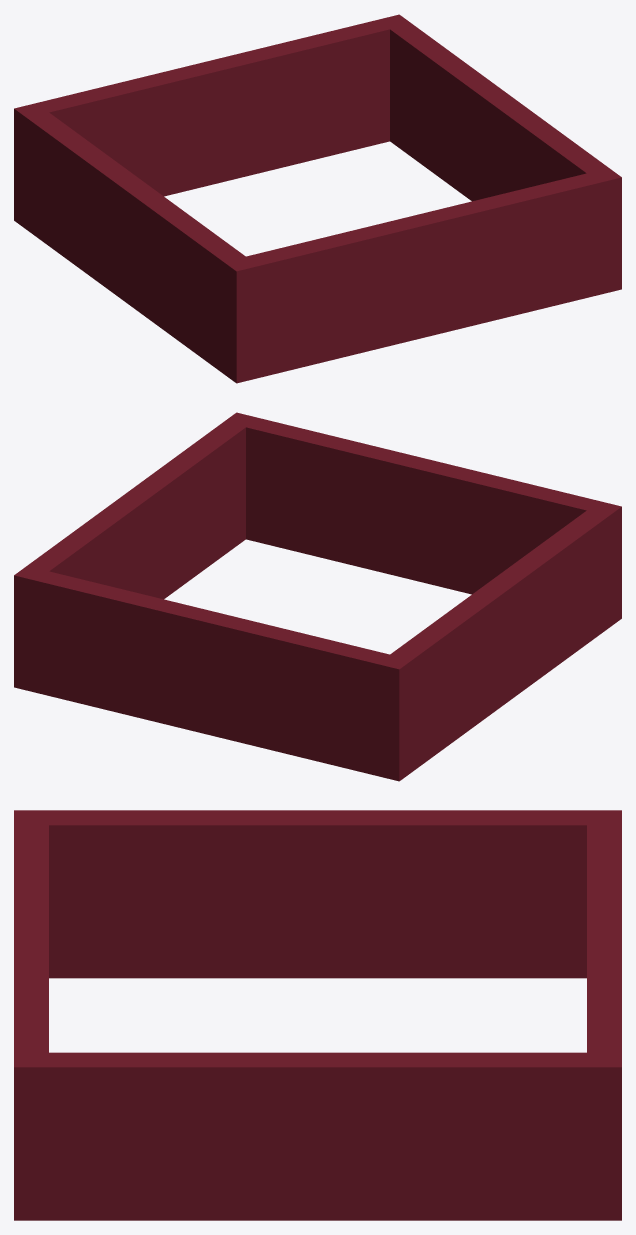
The model's file is tower_middle_002_msh.fbx.
3 views of the same model, one above another, from view 1: azimuth 30°, elevation 25°; view 2: azimuth 150°, elevation 25°; view 3: azimuth 270°, elevation 25° (orthographic). The views are drawn at different scales.
Parts seen in each view (by area): view 1: tower_middle_002_msh; view 2: tower_middle_002_msh; view 3: tower_middle_002_msh.
Part boxes in pixels (x1,y1,x2,y2): tower_middle_002_msh: (14,14,621,383); tower_middle_002_msh: (14,412,621,781); tower_middle_002_msh: (14,810,621,1220).
Size of the model in its own units: 360 by 100 by 360.
